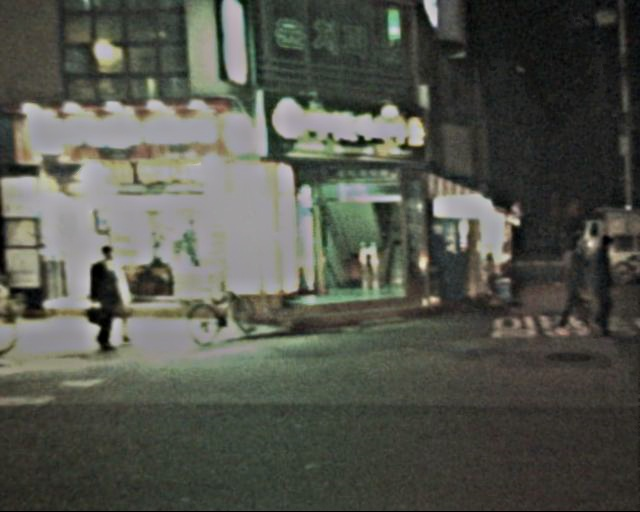person: (533, 234, 600, 346), (560, 234, 628, 339), (74, 244, 129, 355)
